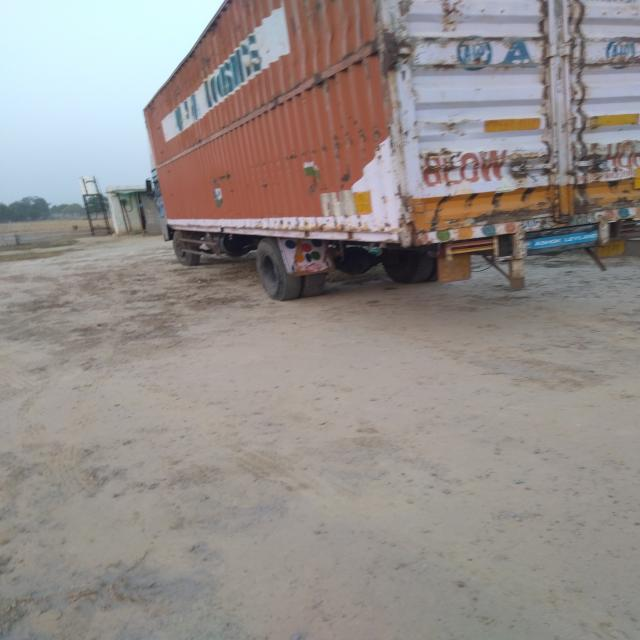truck: (139, 0, 640, 299)
